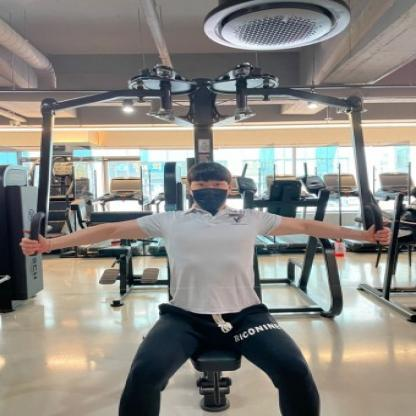chest fly machine: (18, 48, 388, 416)
